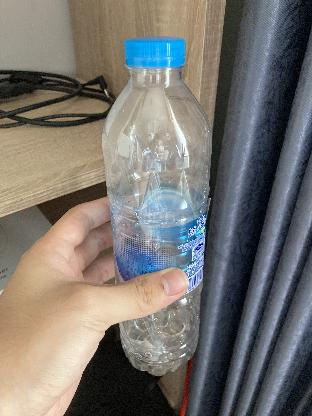Plastic Bottle: (98, 30, 216, 378)
